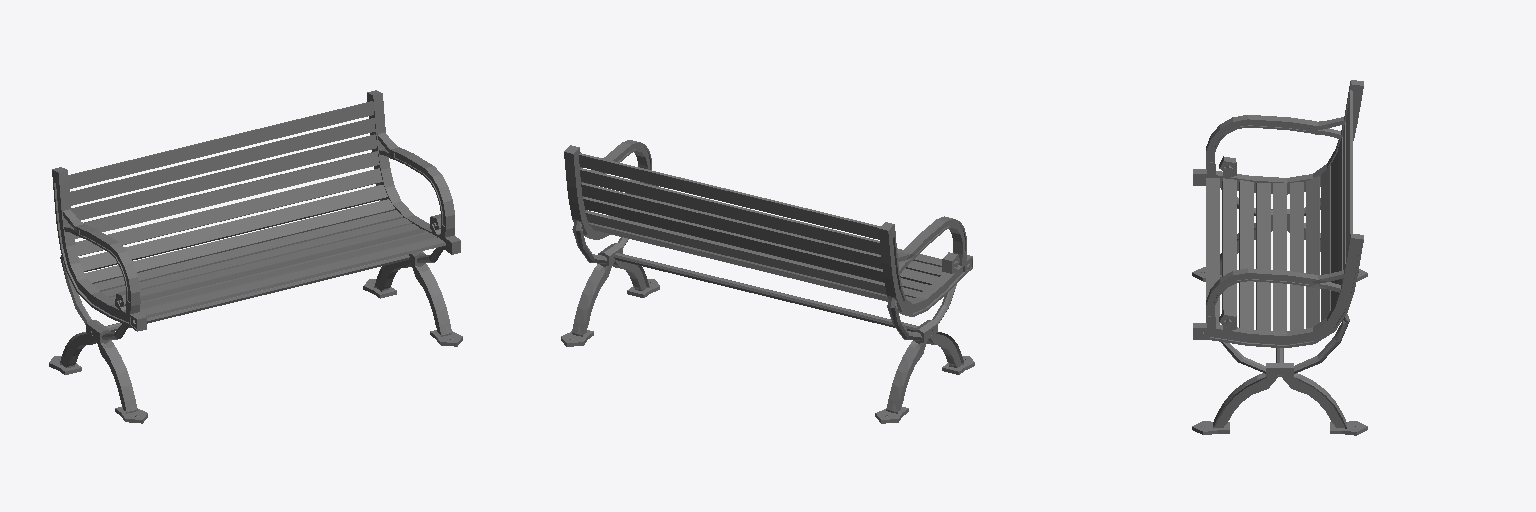
File: Bench_HighRes.obj
3 views of the same model, side by side, from view 1: azimuth 30°, elevation 25°; view 2: azimuth 150°, elevation 25°; view 3: azimuth 270°, elevation 25° (orthographic).
Parts seen in each view (by area): view 1: Bench_HighRes; view 2: Bench_HighRes; view 3: Bench_HighRes.
Part boxes in pixels (left/top/right/bottom): Bench_HighRes: left=49, top=90, right=462, bottom=423; Bench_HighRes: left=561, top=140, right=974, bottom=423; Bench_HighRes: left=1192, top=80, right=1367, bottom=435.
Size of the model in its own units: 3.52 by 1.94 by 1.59.